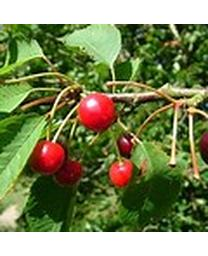cherry: (79, 93, 116, 131), (32, 141, 64, 176), (108, 158, 134, 188)
